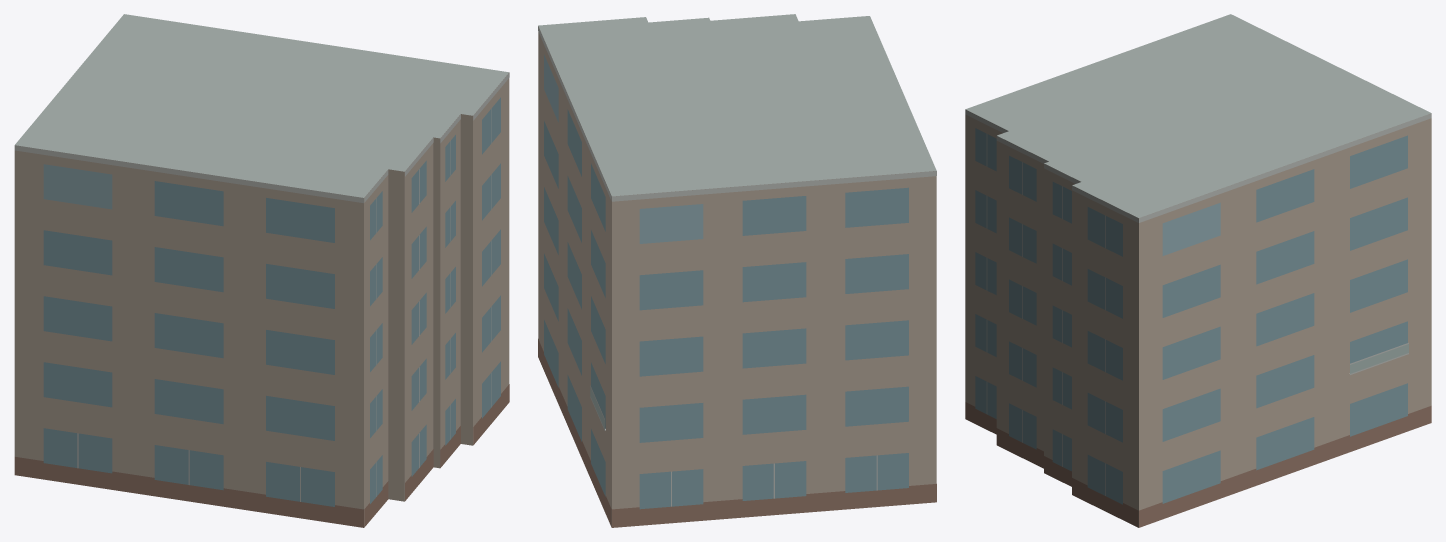
Rendered from survey-upis-32823795.glb.
The picture shows the model from 3 angles, left to right: view 1: azimuth 30°, elevation 25°; view 2: azimuth 150°, elevation 25°; view 3: azimuth 270°, elevation 25°; orthographic projection. The views are drawn at different scales.
Parts seen in each view (by area): view 1: survey-upis-32823795.tmp; view 2: survey-upis-32823795.tmp; view 3: survey-upis-32823795.tmp.
Part boxes in pixels (x1,y1,x2,y2): survey-upis-32823795.tmp: (14,14,509,527); survey-upis-32823795.tmp: (538,14,936,527); survey-upis-32823795.tmp: (965,14,1431,527).
Size of the model in its own units: 21.57 by 15.25 by 20.83.
